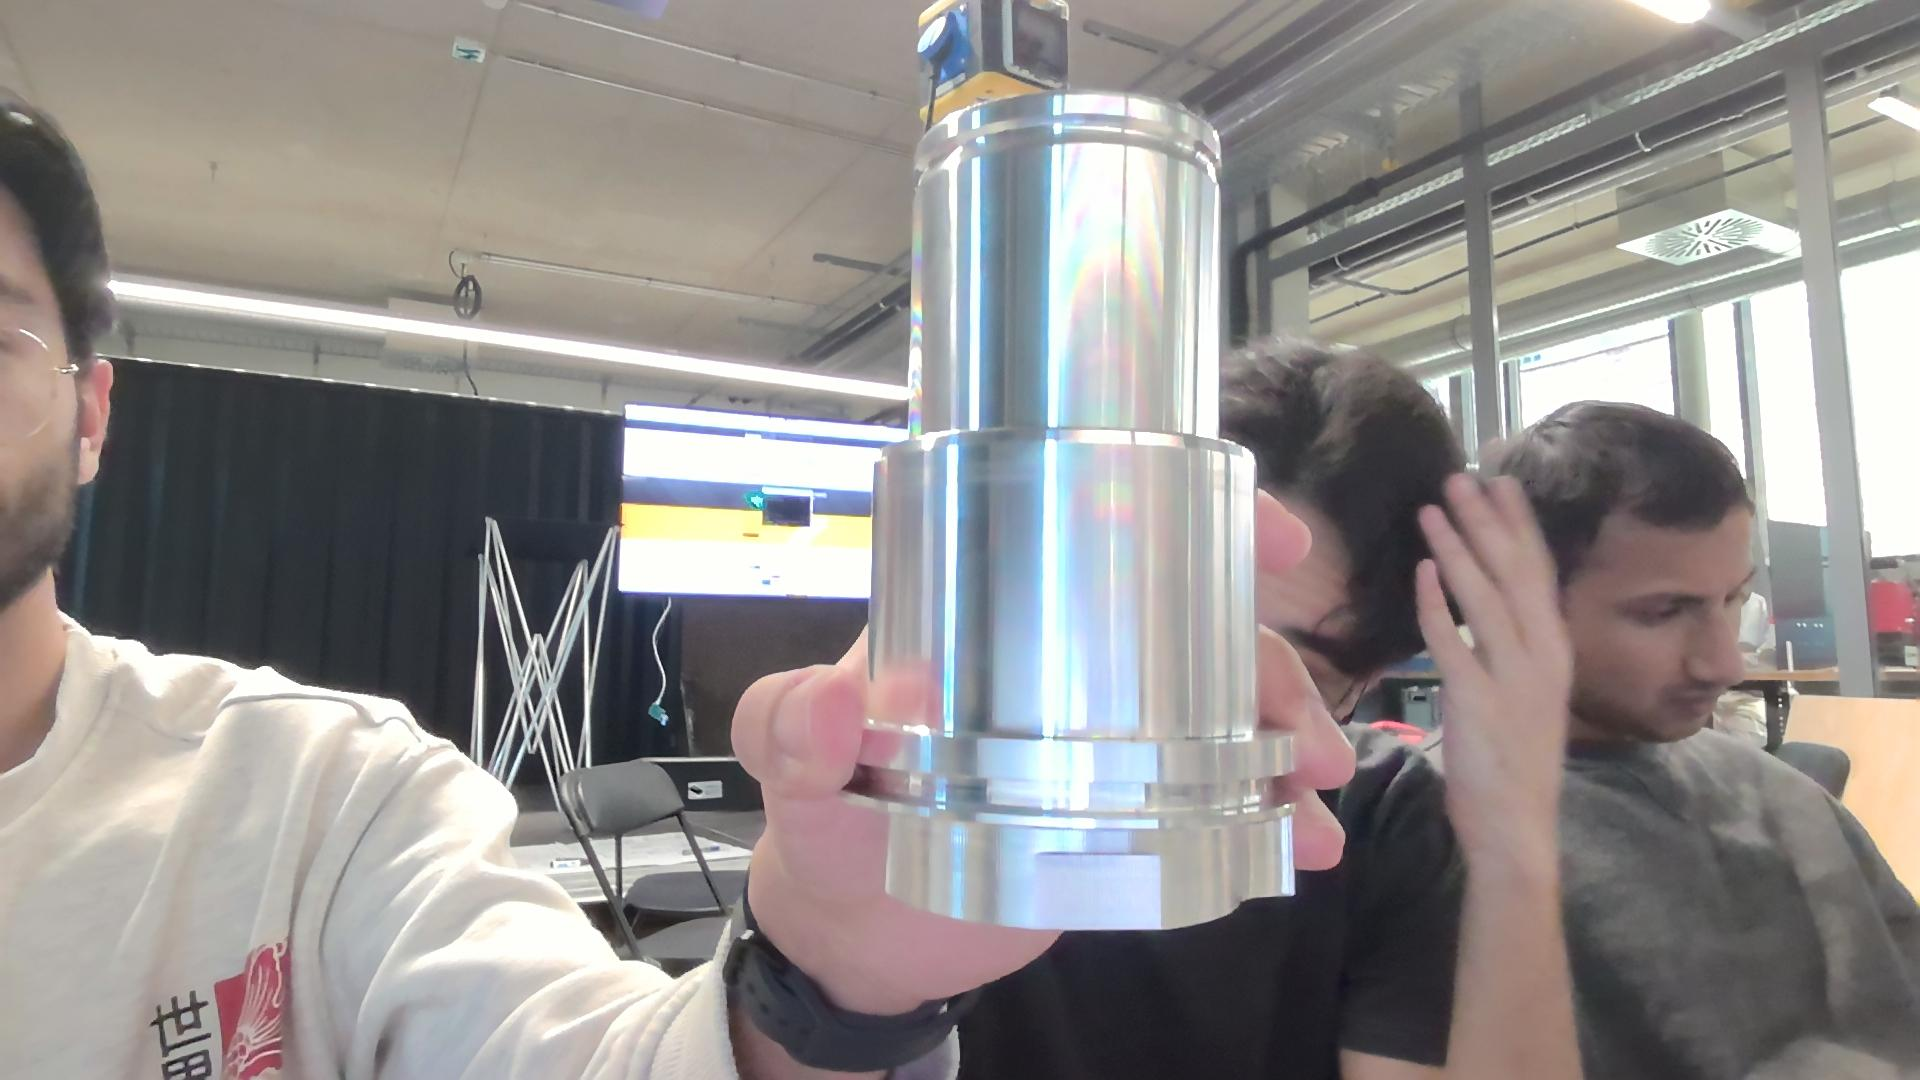objects: (868, 86, 1317, 932)
